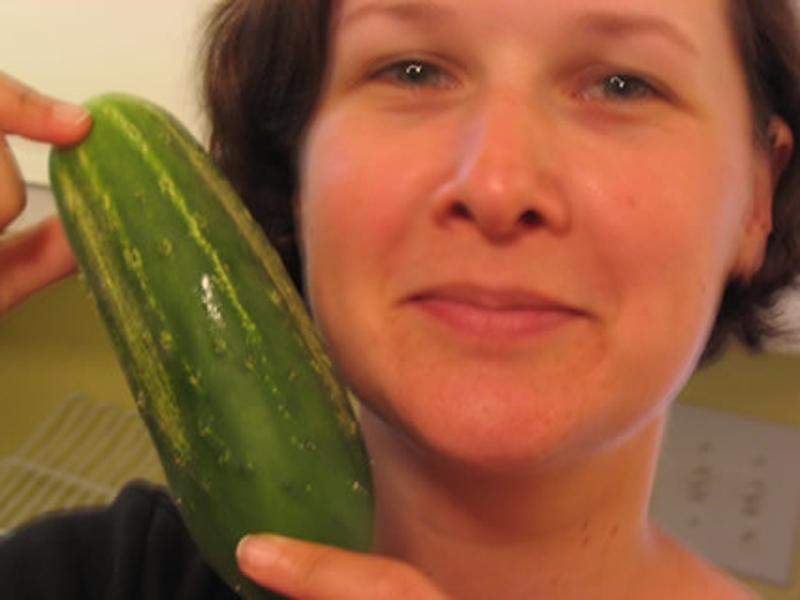Cucumber: (51, 90, 378, 598)
